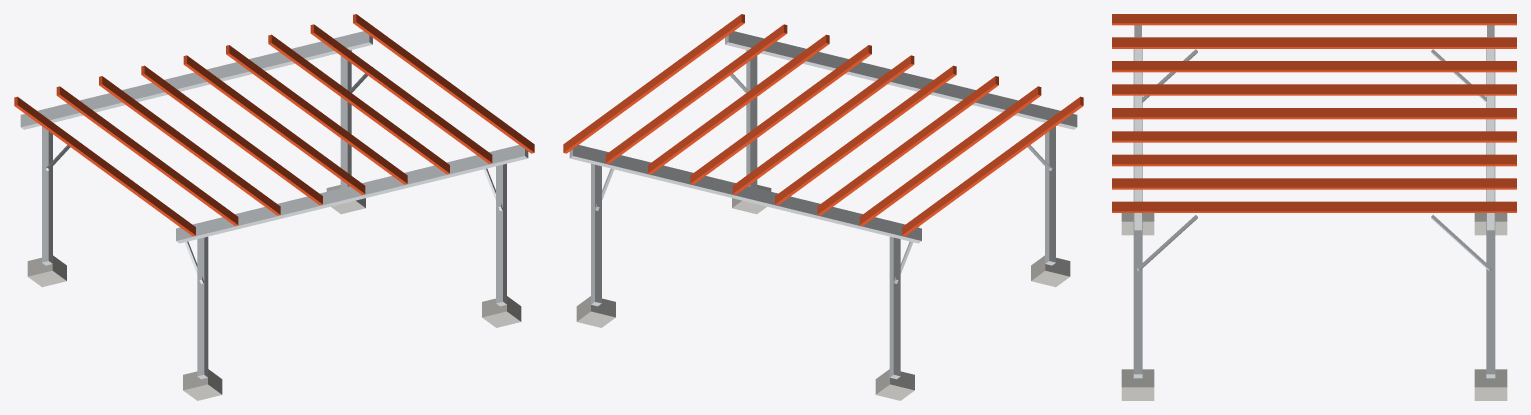
The model's file is carport.glb.
3 views of the same model, side by side, from view 1: azimuth 30°, elevation 25°; view 2: azimuth 150°, elevation 25°; view 3: azimuth 270°, elevation 25° (orthographic). The views are drawn at different scales.
Parts seen in each view (by area): view 1: carport; view 2: carport; view 3: carport.
Boxes of the visible parts, x1,y1,x2,y2 form: carport: (14, 14, 534, 400); carport: (563, 14, 1083, 400); carport: (1112, 14, 1516, 400).
Bounding box in the file's own units: 7 × 3.42 × 6.2.
